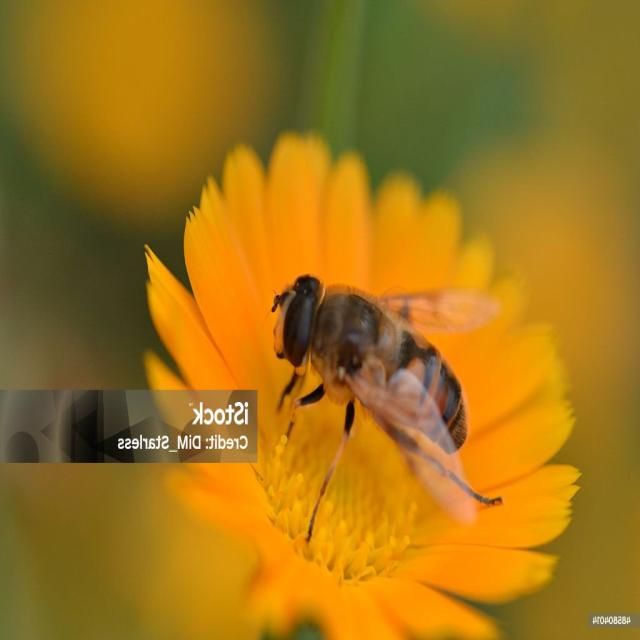hoverfly: (265, 272, 511, 547)
